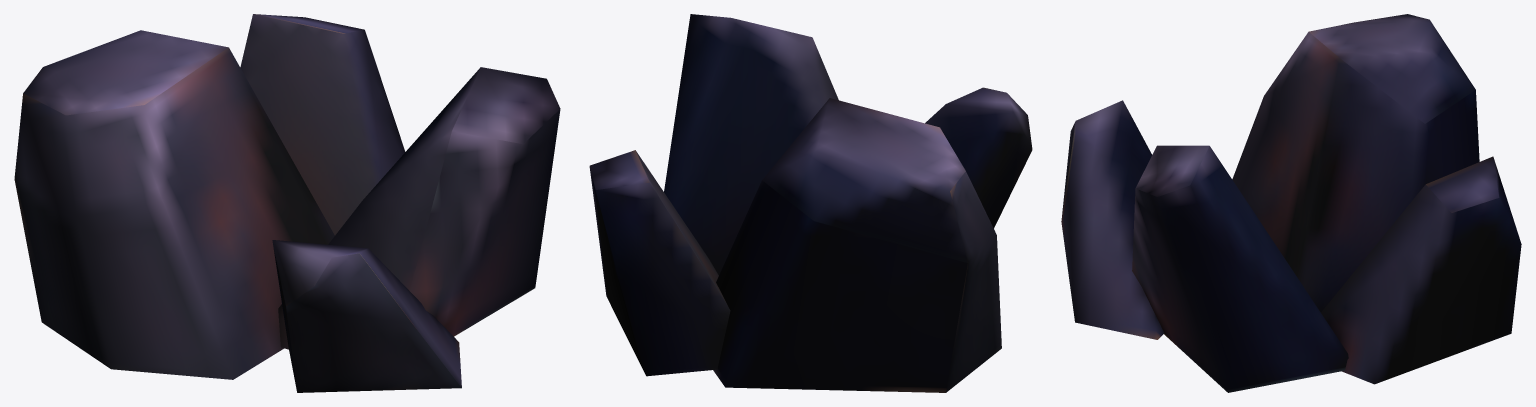
The model's file is large_death.fbx.
3 renders of one model, left to right at view 1: azimuth 30°, elevation 25°; view 2: azimuth 150°, elevation 25°; view 3: azimuth 270°, elevation 25°, orthographic. The views are drawn at different scales.
Visible parts, largest first — view 1: large_death; view 2: large_death; view 3: large_death.
Part boxes in pixels (bbox=[...]): large_death: bbox=[14, 14, 560, 392]; large_death: bbox=[589, 14, 1032, 392]; large_death: bbox=[1061, 14, 1521, 392].
Size of the model in its own units: 107 by 62.52 by 111.
